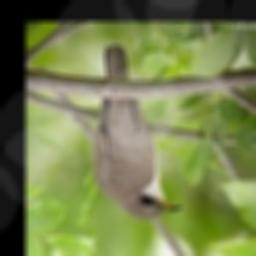Cuckoo: (90, 45, 182, 220)
